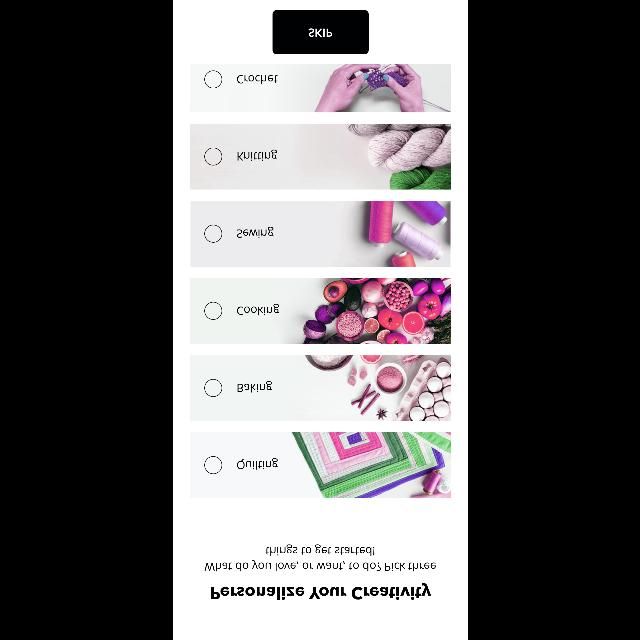checkbox: (203, 302, 221, 320), (203, 456, 221, 474), (203, 71, 220, 89), (204, 225, 222, 242), (203, 379, 221, 396), (203, 148, 221, 164)
image: (190, 432, 450, 498), (190, 278, 450, 344), (190, 124, 450, 190), (190, 356, 450, 420), (190, 202, 450, 266), (190, 64, 450, 112)
text: (204, 544, 436, 572), (210, 582, 430, 600), (236, 304, 278, 316), (237, 458, 277, 469), (237, 226, 273, 238), (238, 150, 276, 160), (237, 382, 271, 392), (237, 76, 277, 84)
textbutton: (272, 10, 368, 54)
